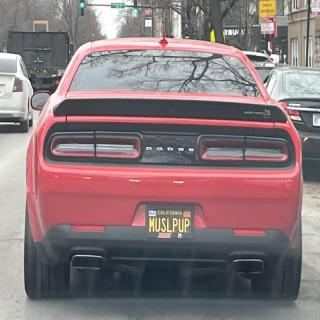license: (146, 206, 195, 240)
